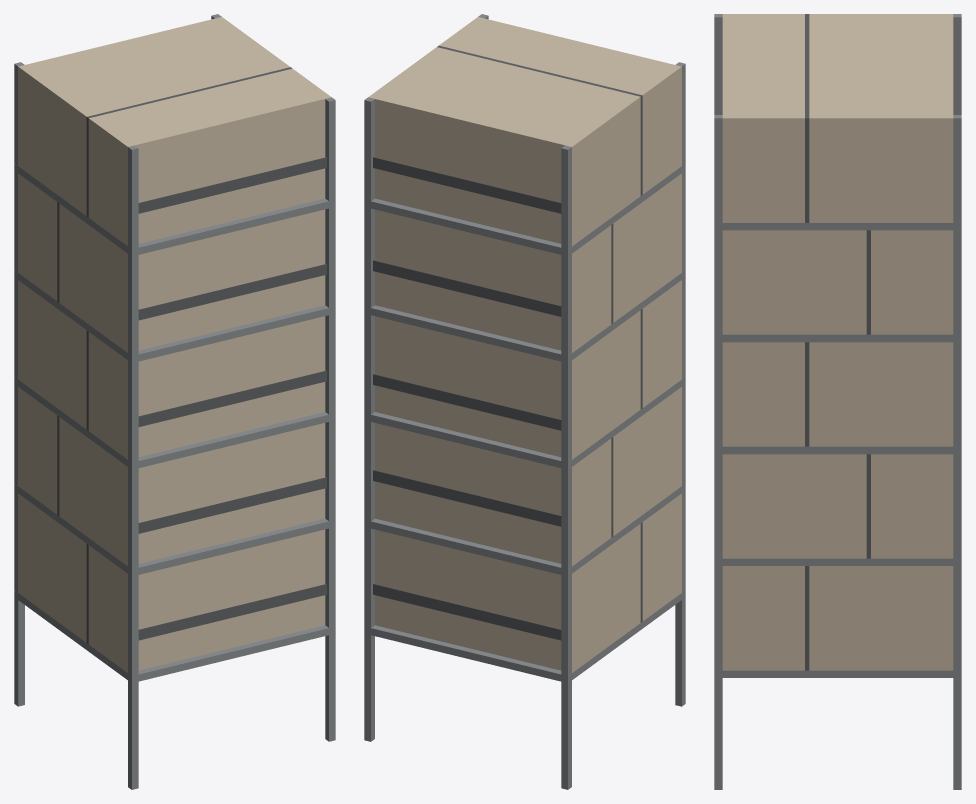
The model's file is Stellage.glb.
The picture shows the model from 3 angles, left to right: view 1: azimuth 30°, elevation 25°; view 2: azimuth 150°, elevation 25°; view 3: azimuth 270°, elevation 25°; orthographic projection. The views are drawn at different scales.
Parts seen in each view (by area): view 1: Mesh_Mesh_head_geo.001_lambert2SG.001; view 2: Mesh_Mesh_head_geo.001_lambert2SG.001; view 3: Mesh_Mesh_head_geo.001_lambert2SG.001.
Boxes of the visible parts, x1,y1,x2,y2 form: Mesh_Mesh_head_geo.001_lambert2SG.001: (14,14,335,789); Mesh_Mesh_head_geo.001_lambert2SG.001: (364,14,685,789); Mesh_Mesh_head_geo.001_lambert2SG.001: (714,14,961,789).
Size of the model in its own units: 6 by 18 by 6.
